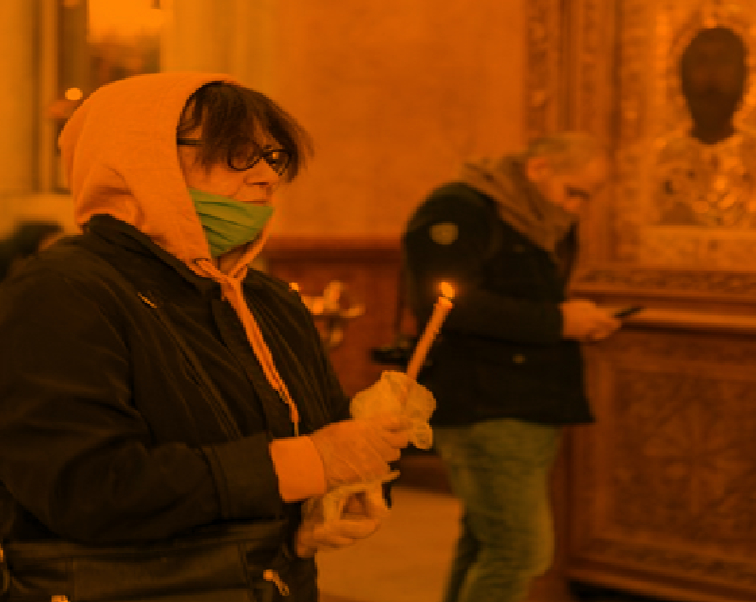mask_weared_incorrect: (66, 72, 295, 257)
